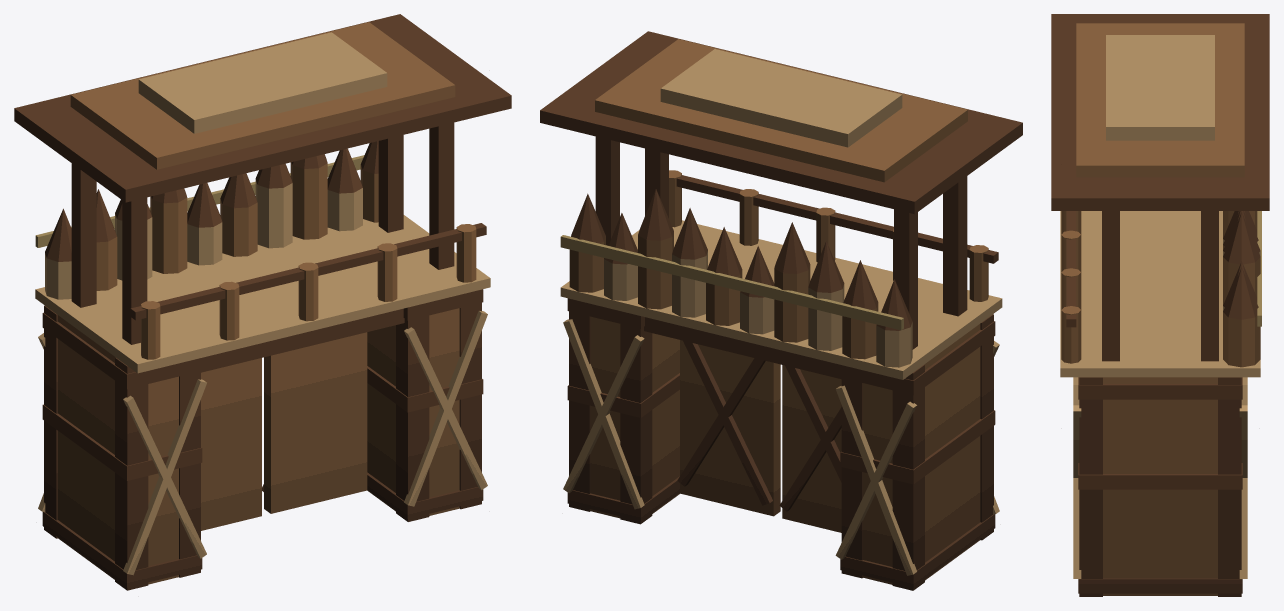
Rendered from perimeter_gate_wood.glb.
3 views of the same model, side by side, from view 1: azimuth 30°, elevation 25°; view 2: azimuth 150°, elevation 25°; view 3: azimuth 270°, elevation 25° (orthographic). The views are drawn at different scales.
Size of the model in its own units: 4.4 by 4.8 by 2.2.
Materials: 1 (1 with a texture image).
